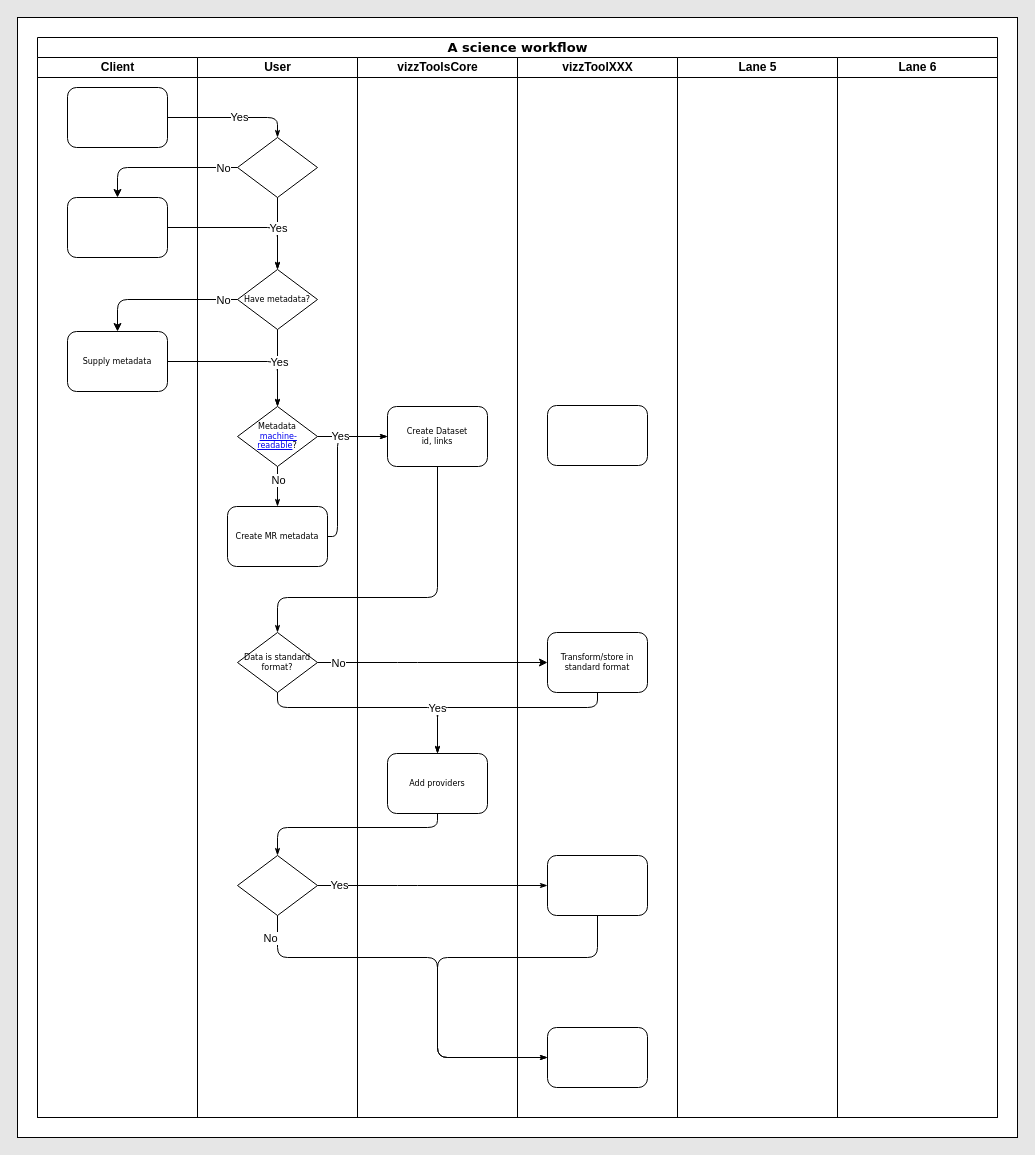
Some shapes in this 1035 by 1155 pixel diagram are drawn without their labels. Each missing label, with the centre of its shape:
"Add data set to platform" belongs at pixel 117 117.
"Add ORIGINAL metadata" belongs at pixel 597 435.
"Data set changed significantly?" belongs at pixel 277 885.
"Export/store Dataset configuration" belongs at pixel 597 1057.
"Have links to data set?" belongs at pixel 277 167.
"Supply data set" belongs at pixel 117 227.
"Update and enrich metadata" belongs at pixel 597 885.
